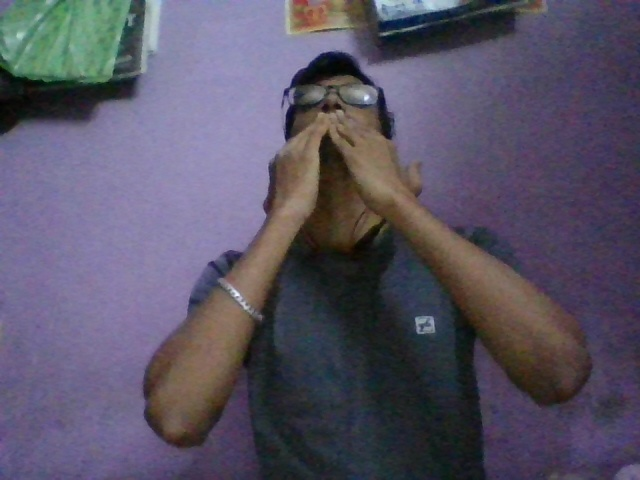Thank You: (220, 104, 475, 268)
